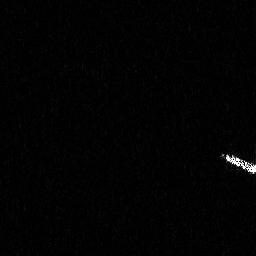ship: (220, 150, 256, 178)
